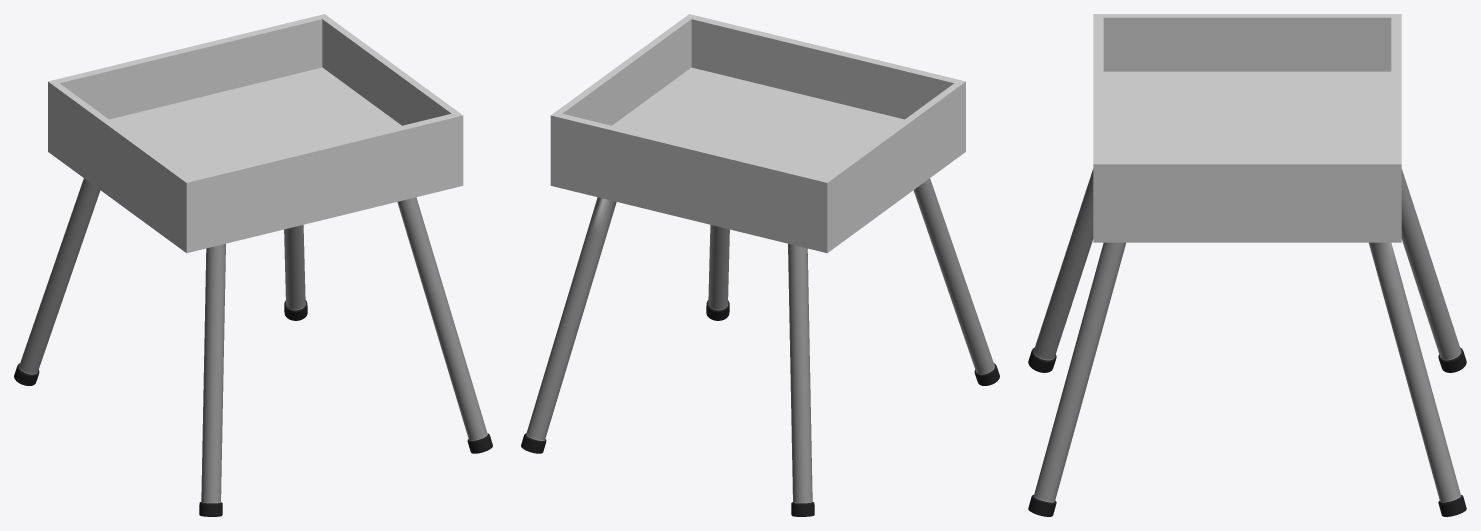
File: BarbecueStand.fbx
3 renders of one model, left to right at view 1: azimuth 30°, elevation 25°; view 2: azimuth 150°, elevation 25°; view 3: azimuth 270°, elevation 25°, orthographic. The views are drawn at different scales.
Visible parts, largest first — view 1: Cube, Bottom; view 2: Cube, Bottom; view 3: Cube, Bottom.
Part boxes in pixels (box(x1,y1,x2,y2)): Cube: box(48, 14, 463, 253); Bottom: box(14, 178, 492, 516); Cube: box(550, 14, 965, 253); Bottom: box(521, 178, 999, 516); Cube: box(1093, 14, 1401, 242); Bottom: box(1028, 169, 1466, 516).
Bounding box in the file's own units: 1.14 × 1.19 × 1.33.
